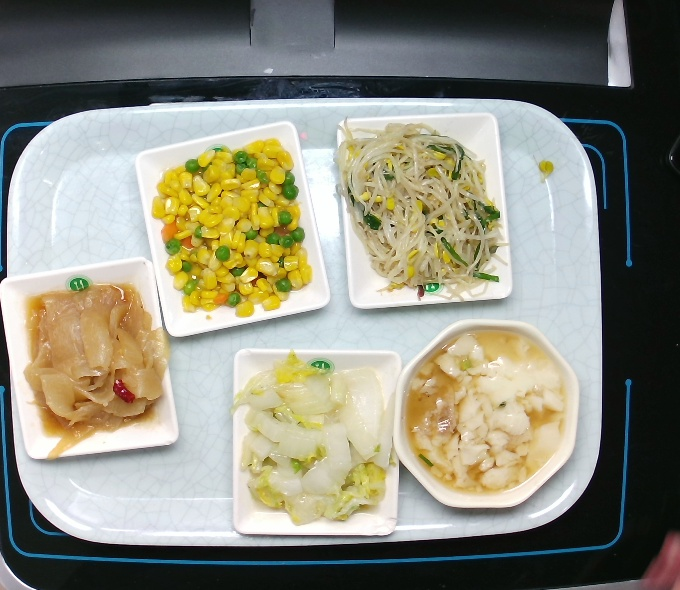wcq-DaBaiCai: (228, 346, 404, 531)
wcq-DongGua: (17, 274, 176, 464)
wcq-DouYa: (326, 109, 517, 318)
wcq-ShuiZhengDan: (396, 324, 574, 503)
wcq-TianMiTianDou: (149, 134, 316, 321)
